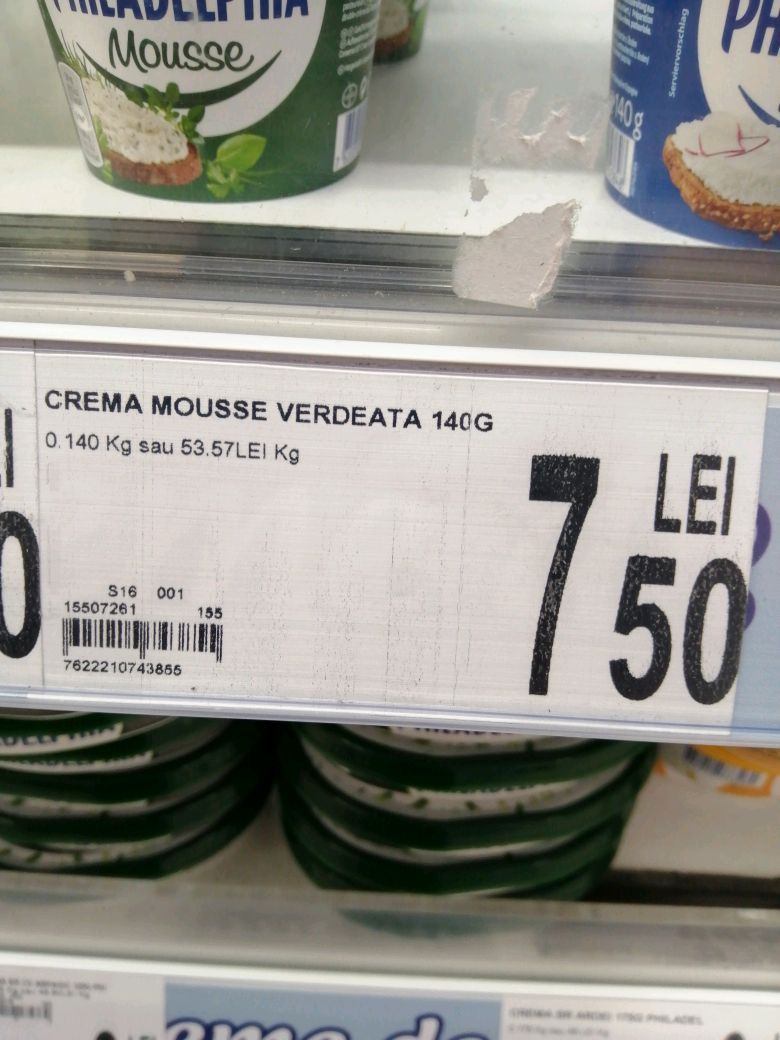price_bani: (609, 548, 752, 713)
price_lei: (494, 449, 607, 713)
price_tag: (31, 347, 772, 749)
product_id: (54, 655, 190, 681)
product_name: (39, 365, 499, 442)
